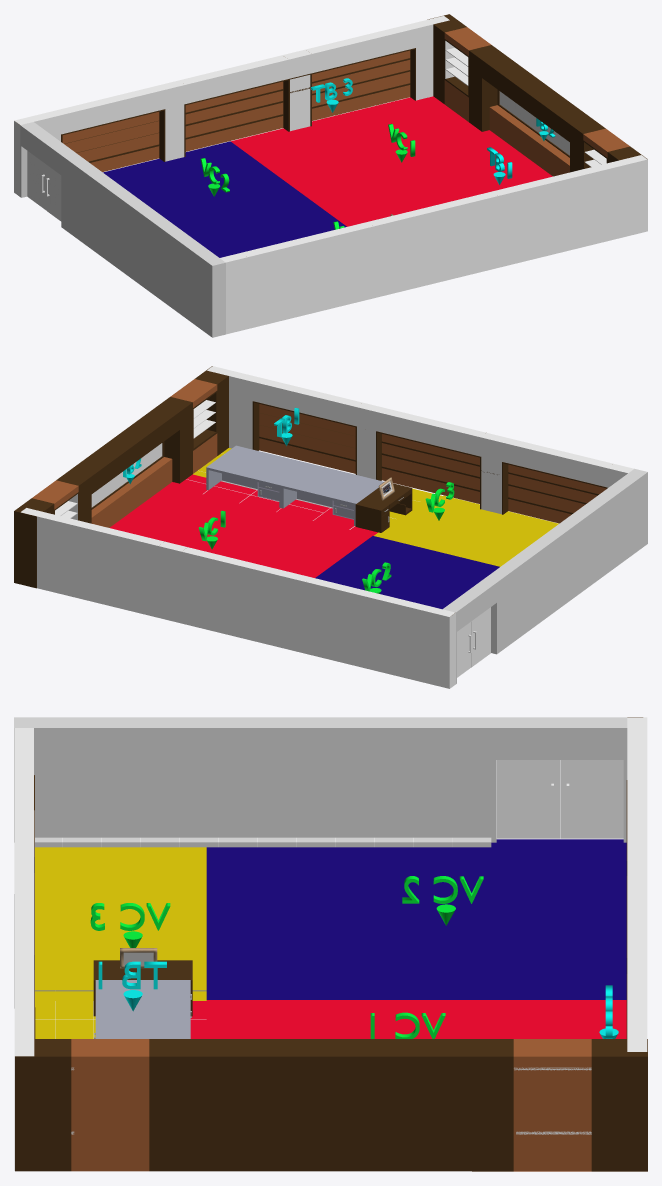
The model's file is DenahCodeLabs.glb.
3 views of the same model, one above another, from view 1: azimuth 30°, elevation 25°; view 2: azimuth 150°, elevation 25°; view 3: azimuth 270°, elevation 25° (orthographic). The views are drawn at different scales.
Parts seen in each view (by area): view 1: Cube.008, Plane.001, Plane.005, Plane.004, Plane, Cube.001, Cube; view 2: Plane.005, Cube.008, Plane.001, Plane, Plane.004, Cube.004, Cube.006, Cube.002, Cube.005, Cube.003, Cube, Cube.001; view 3: Cube.008, Plane, Plane.004, Plane.005, Plane.001, Cube.001, Cube, Cube.006, Cube.003, Cube.002, Text.001, Text.002 (+2 smaller).
Boxes of the visible parts, x1,y1,x2,y2 form: Cube.008: [103, 96, 552, 257]; Plane.001: [220, 155, 647, 334]; Plane.005: [14, 16, 449, 196]; Plane.004: [20, 122, 225, 337]; Plane: [427, 14, 647, 230]; Cube.001: [27, 151, 46, 210]; Cube: [46, 165, 61, 221]; Plane.005: [21, 508, 455, 688]; Cube.008: [110, 448, 558, 609]; Plane.001: [207, 366, 633, 523]; Plane: [14, 366, 228, 588]; Plane.004: [443, 468, 647, 683]; Cube.004: [206, 456, 295, 507]; Cube.006: [281, 474, 370, 525]; Cube.002: [355, 483, 412, 532]; Cube.005: [221, 445, 310, 474]; Cube.003: [296, 464, 383, 492]; Cube: [471, 607, 490, 667]; Cube.001: [457, 622, 471, 677]; Cube.008: [35, 839, 626, 1038]; Plane: [15, 1039, 647, 1171]; Plane.004: [14, 717, 627, 847]; Plane.005: [626, 717, 647, 1051]; Plane.001: [14, 728, 35, 1170]; Cube.001: [560, 760, 623, 838]; Cube: [497, 760, 560, 838]; Cube.006: [143, 980, 191, 1038]; Cube.003: [94, 980, 142, 1038]; Cube.002: [93, 960, 192, 1016]; Text.001: [402, 876, 483, 903]; Text.002: [90, 903, 170, 930].
Size of the model in its own units: 20.3 by 3.42 by 16.03.
Materials: 37 (2 with a texture image).
